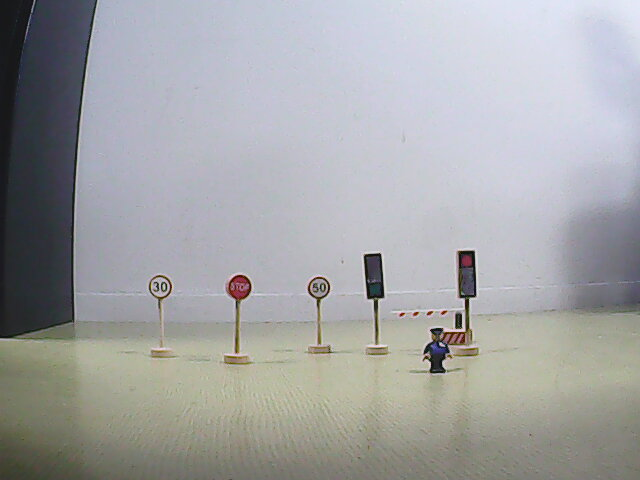barrier: (388, 306, 474, 345)
green_traffic_sign: (363, 251, 385, 300)
person: (419, 324, 455, 378)
red_traffic_sign: (455, 250, 478, 298)
sign_30: (148, 273, 174, 300)
sign_50: (307, 276, 329, 300)
stop_sign: (224, 273, 255, 302)
